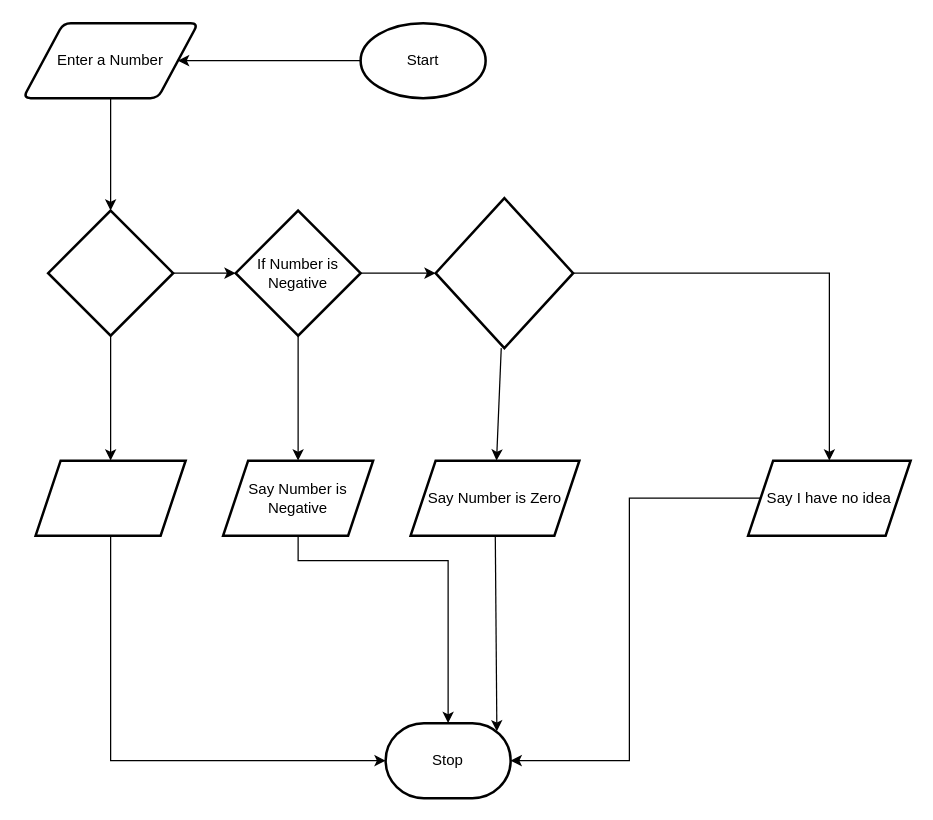
The diagram is 933 pixels wide and 820 high, and some of its shapes have lost their labels. Each missing label, with the centre of its shape:
If Number is Positive: the point at 110,272
If Number is Zero: the point at 504,272
Say Number is positve: the point at 110,497
